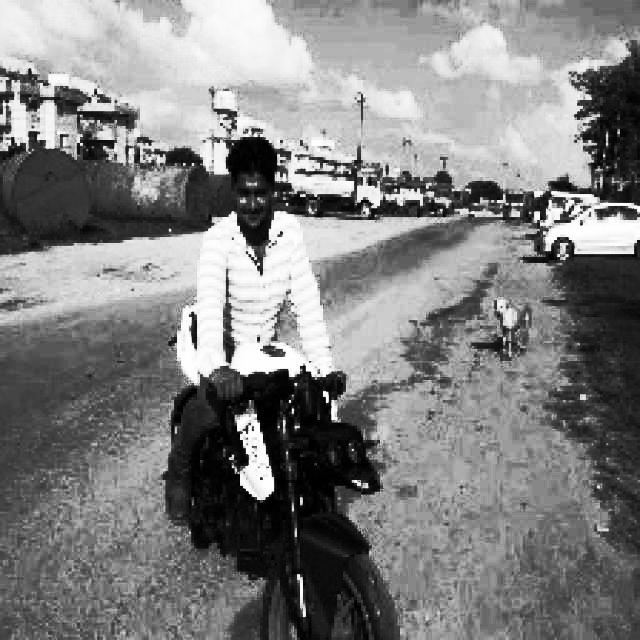Bike: (197, 356, 399, 640)
